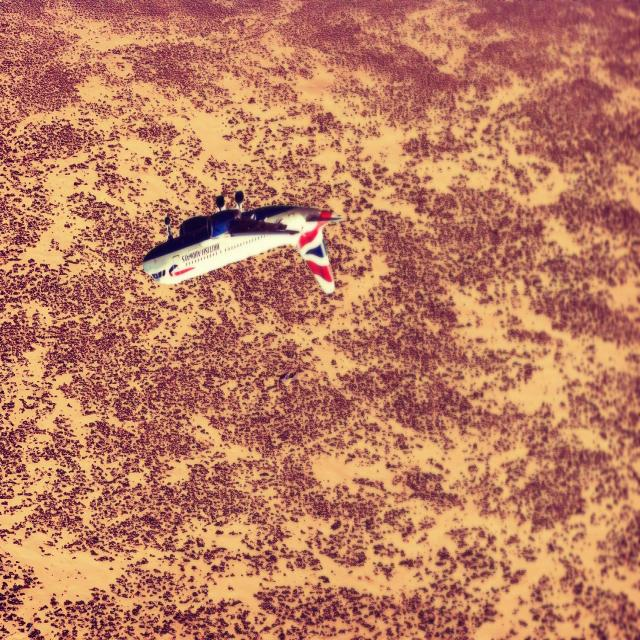airplane: (142, 189, 343, 295)
